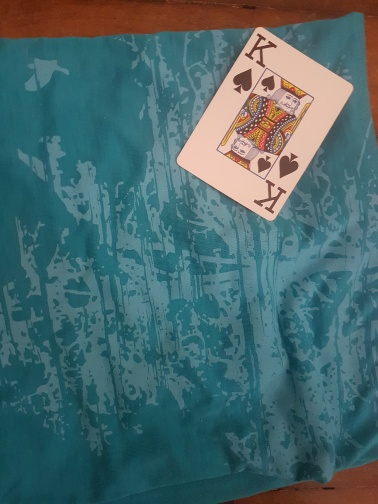king: (176, 27, 356, 222)
